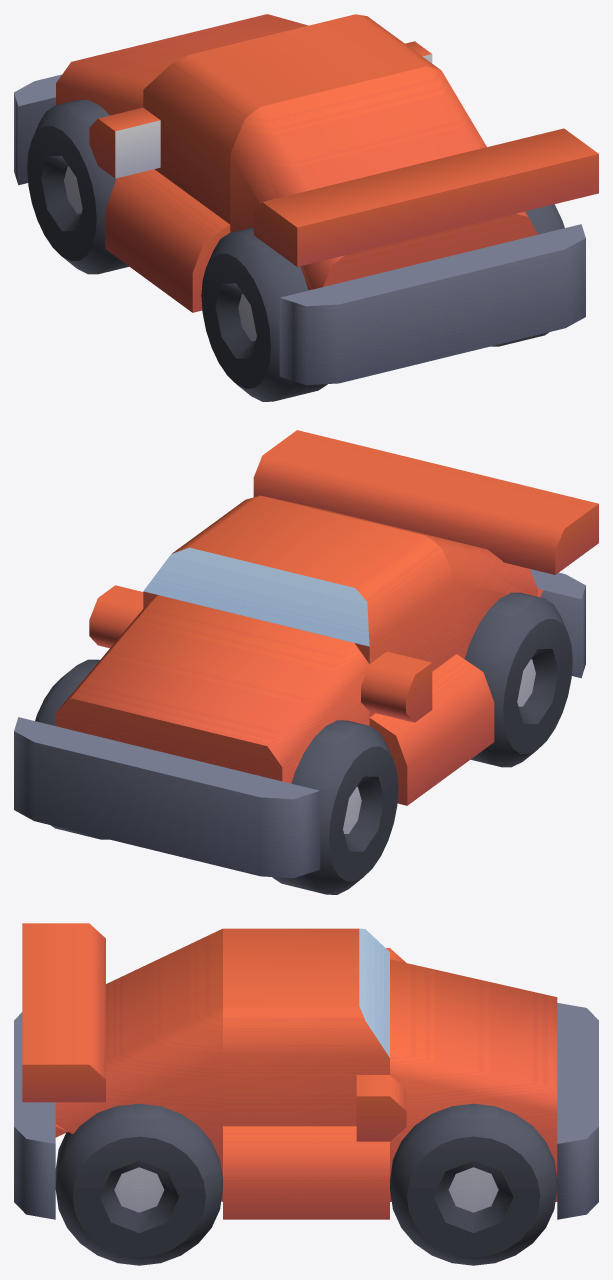
The model's file is vehicle_racer_low.glb.
The picture shows the model from 3 angles, top to bottom: view 1: azimuth 30°, elevation 25°; view 2: azimuth 150°, elevation 25°; view 3: azimuth 270°, elevation 25°; orthographic projection. The views are drawn at different scales.
Visible parts, largest first — view 1: vehicle-racer-low, wheel-bl, wheel-fl, wheel-br; view 2: vehicle-racer-low, wheel-bl, wheel-fl, wheel-fr; view 3: vehicle-racer-low, wheel-br, wheel-fr.
Part boxes in pixels (x1,y1,x2,y2): vehicle-racer-low: [14, 14, 598, 385]; wheel-bl: [201, 227, 327, 401]; wheel-fl: [27, 99, 128, 274]; wheel-br: [491, 204, 564, 346]; vehicle-racer-low: [14, 430, 598, 878]; wheel-bl: [464, 592, 572, 767]; wheel-fl: [272, 720, 398, 894]; wheel-fr: [35, 659, 108, 839]; vehicle-racer-low: [14, 923, 598, 1219]; wheel-br: [55, 1103, 222, 1265]; wheel-fr: [390, 1103, 557, 1265].
Size of the model in its own units: 0.525 by 0.3875 by 0.875.
1 material, 1 textured.
